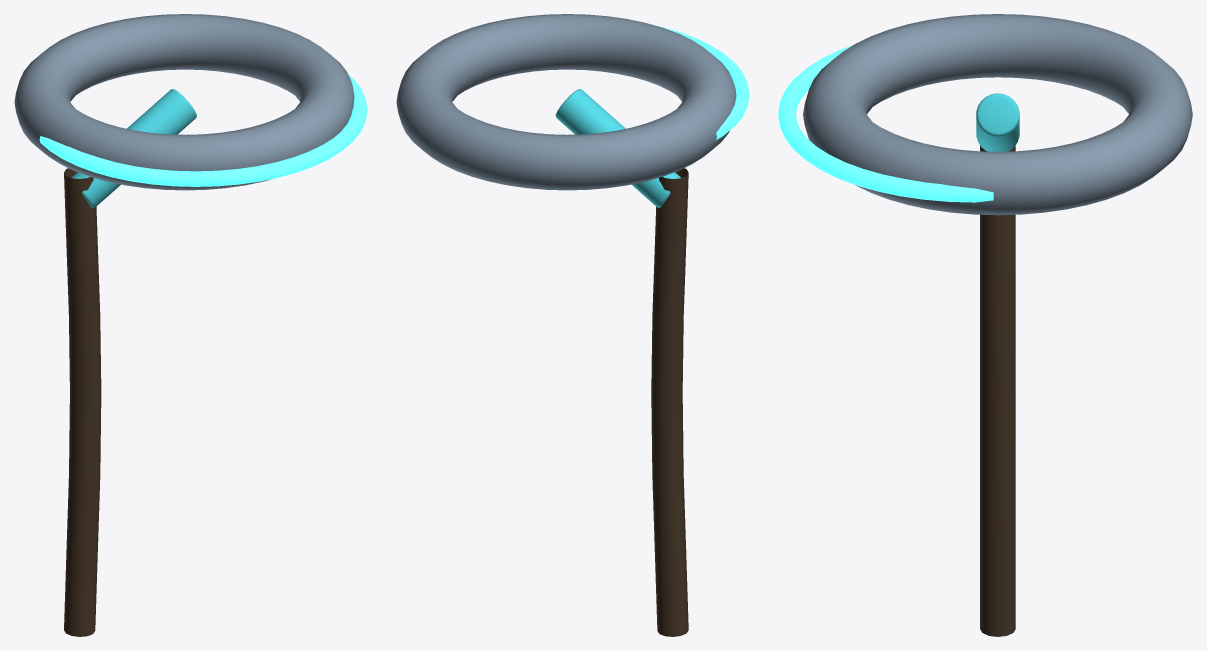
The model's file is scythe_v7.glb.
The picture shows the model from 3 angles, left to right: view 1: azimuth 30°, elevation 25°; view 2: azimuth 150°, elevation 25°; view 3: azimuth 270°, elevation 25°; orthographic projection. The views are drawn at different scales.
Parts seen in each view (by area): view 1: RING_SCYTHE_PRIMARY, REAPER_SHAFT_SECONDARY, RING_EDGE_EMISSIVE, RING_MOUNT_ACCENT; view 2: RING_SCYTHE_PRIMARY, REAPER_SHAFT_SECONDARY, RING_MOUNT_ACCENT, RING_EDGE_EMISSIVE; view 3: RING_SCYTHE_PRIMARY, REAPER_SHAFT_SECONDARY, RING_EDGE_EMISSIVE, RING_MOUNT_ACCENT.
Boxes of the visible parts, <box> form: RING_SCYTHE_PRIMARY: <box>14,14,354,190</box>; REAPER_SHAFT_SECONDARY: <box>64,168,101,636</box>; RING_EDGE_EMISSIVE: <box>39,74,367,186</box>; RING_MOUNT_ACCENT: <box>71,89,196,208</box>; RING_SCYTHE_PRIMARY: <box>396,14,736,190</box>; REAPER_SHAFT_SECONDARY: <box>651,168,688,636</box>; RING_MOUNT_ACCENT: <box>555,89,680,208</box>; RING_EDGE_EMISSIVE: <box>659,26,749,139</box>; RING_SCYTHE_PRIMARY: <box>803,14,1192,215</box>; REAPER_SHAFT_SECONDARY: <box>980,145,1015,636</box>; RING_EDGE_EMISSIVE: <box>778,45,993,202</box>; RING_MOUNT_ACCENT: <box>976,93,1019,151</box>.
Bounding box in the file's own units: 1.97 × 3.34 × 2.09.
